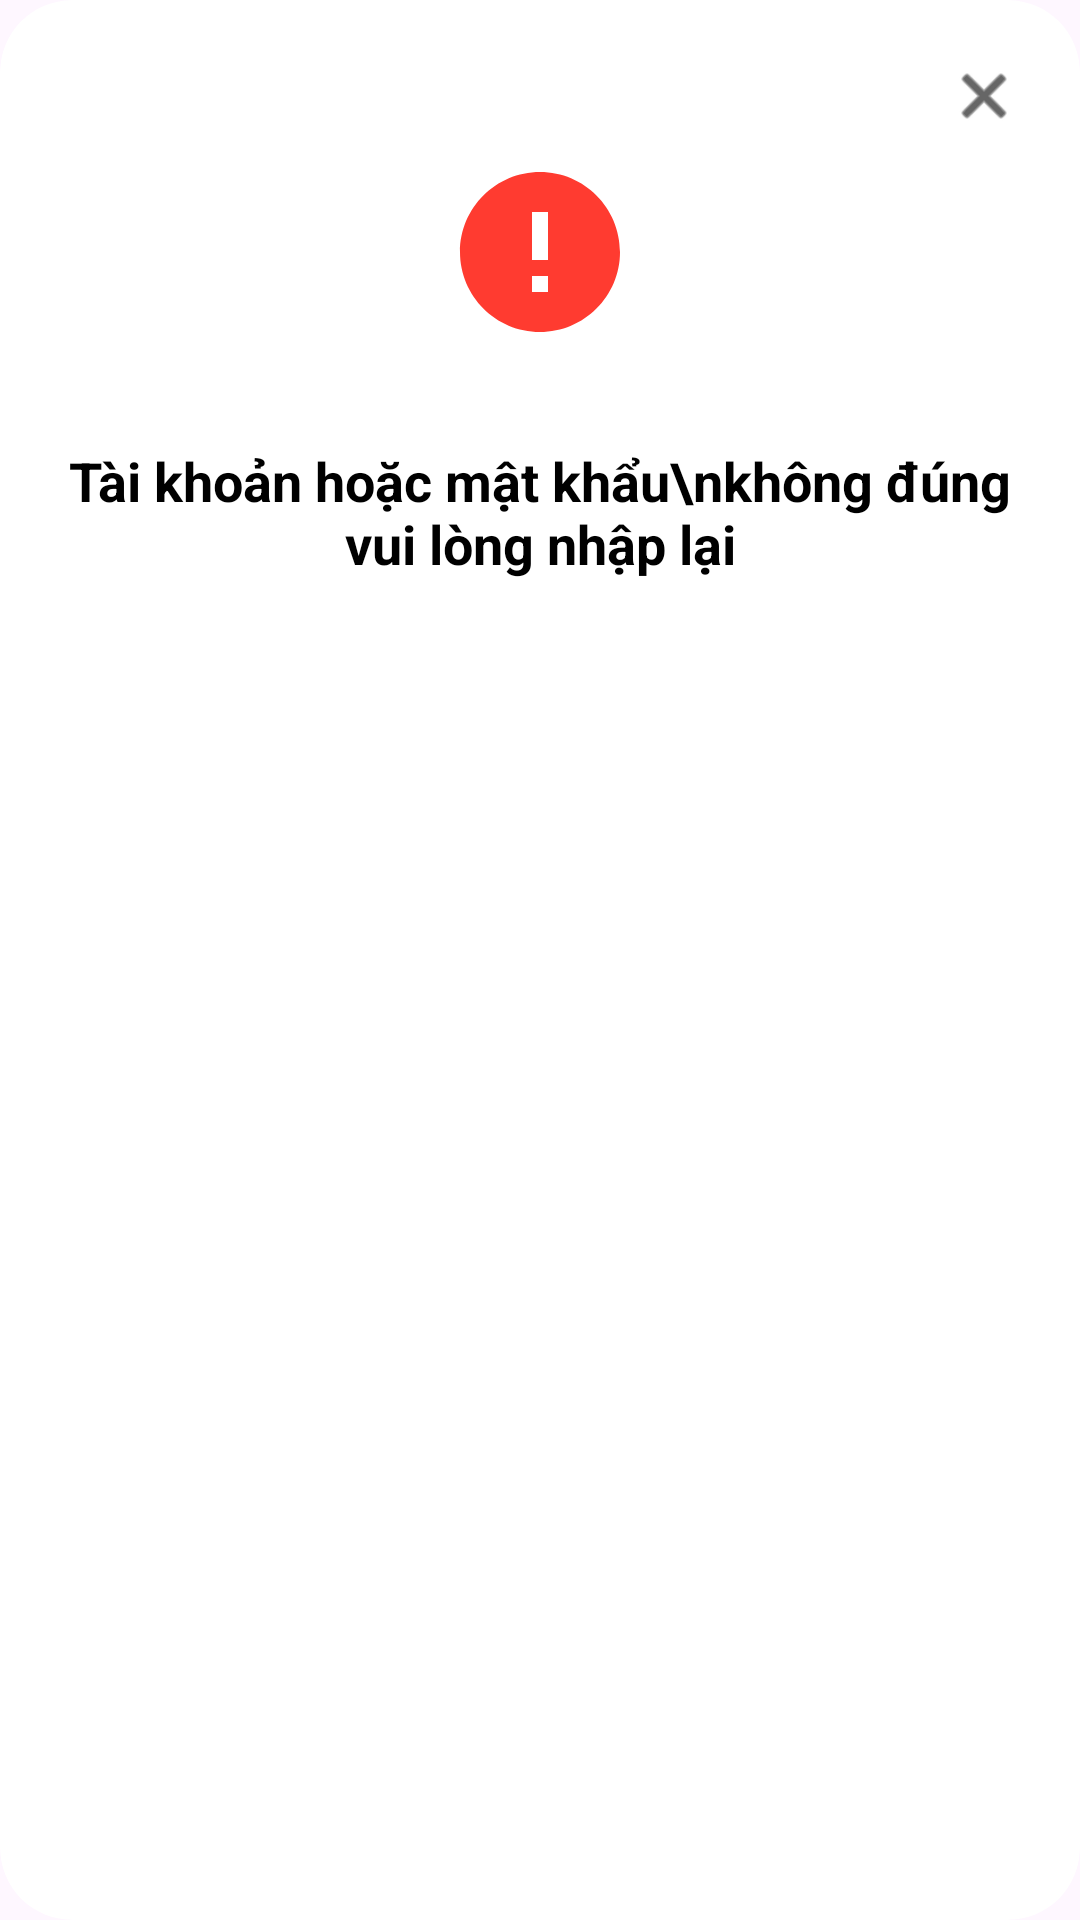

Icon bounding boxes for this 1080*1920 phone screenshot, format (x1, y1, x2, y2):
close clear cancel: (961, 73, 1007, 119)
error: (460, 172, 620, 332)
